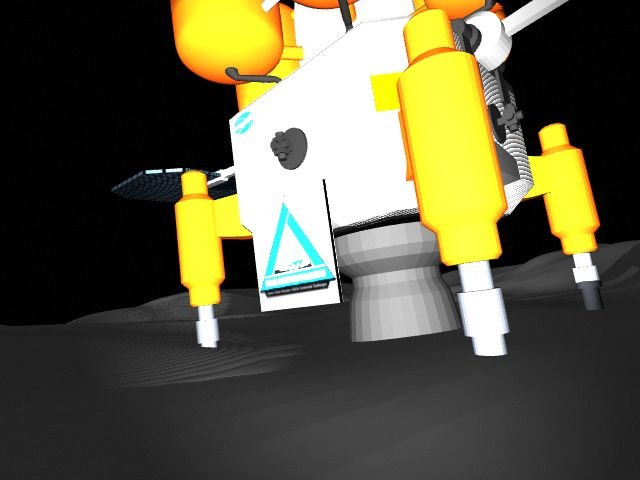basemarker: (259, 202, 336, 299)
